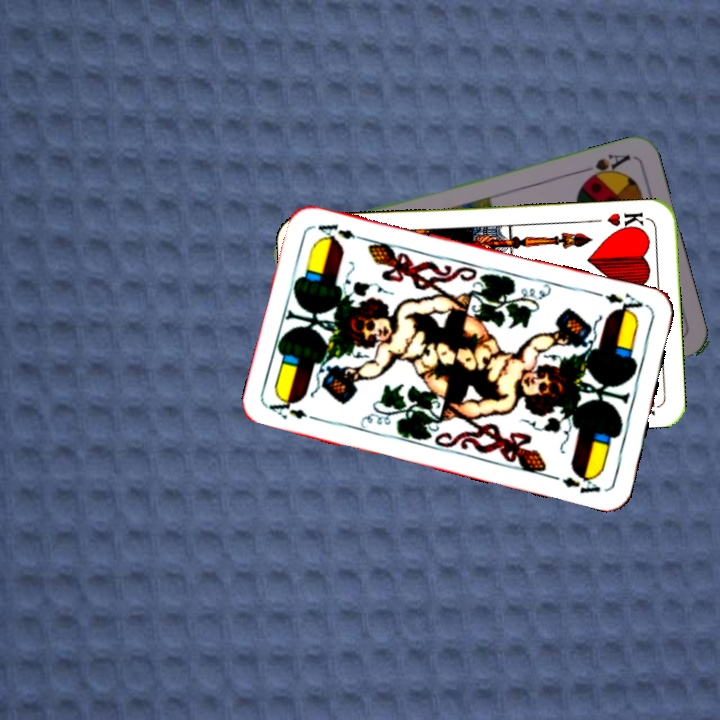EA: (600, 289, 645, 319), (265, 394, 310, 422)
HK: (603, 208, 650, 235)
SA: (575, 150, 633, 184)
